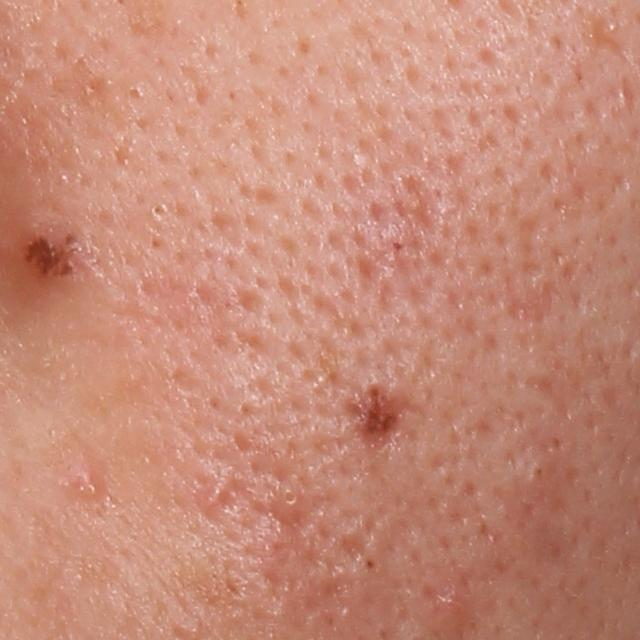atrophic_scar: (519, 347, 638, 431), (366, 176, 453, 264), (505, 276, 564, 323), (582, 9, 634, 61), (340, 529, 365, 569)
comedo: (148, 197, 173, 224), (363, 554, 379, 575)
nevus: (12, 204, 95, 299), (337, 373, 422, 452)
papule: (70, 466, 105, 499)
